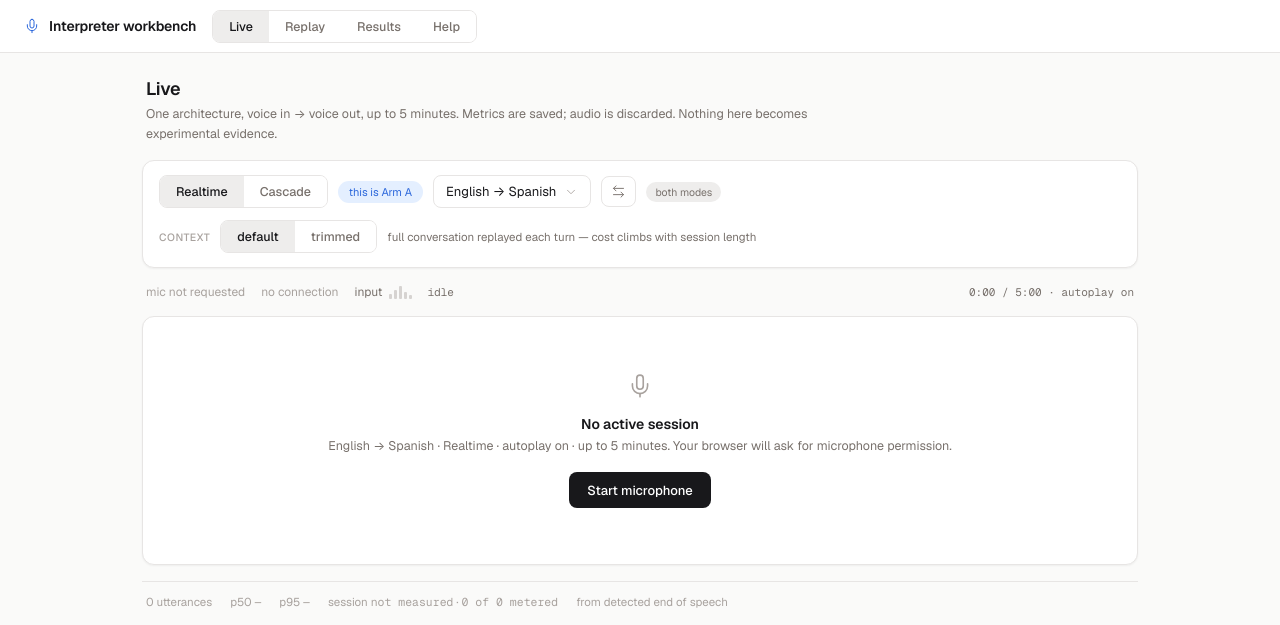
Test: ticket 019 — a Replay bag is NOT implicitly a hydration source › with `replay` wired and no `hydrate`, Results reads the client ledger alone
Click the button "Results" at (379, 26), box [341,10,417,42]
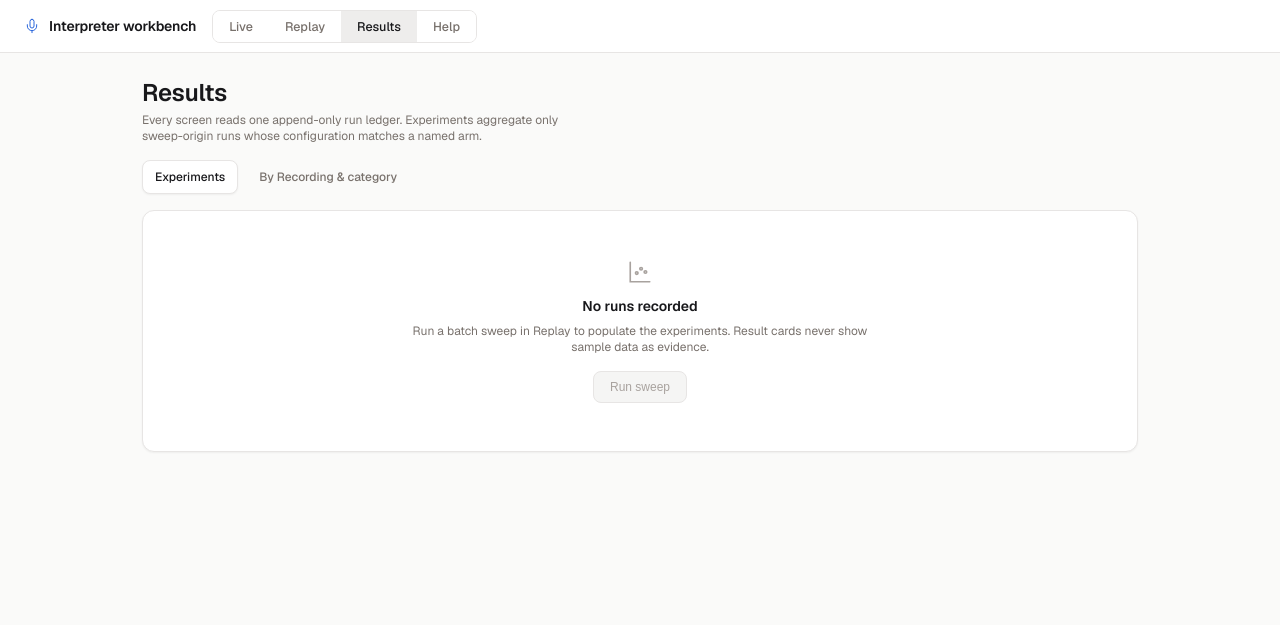
Expected: the text "No runs recorded" is shown, [582,297,698,315]
